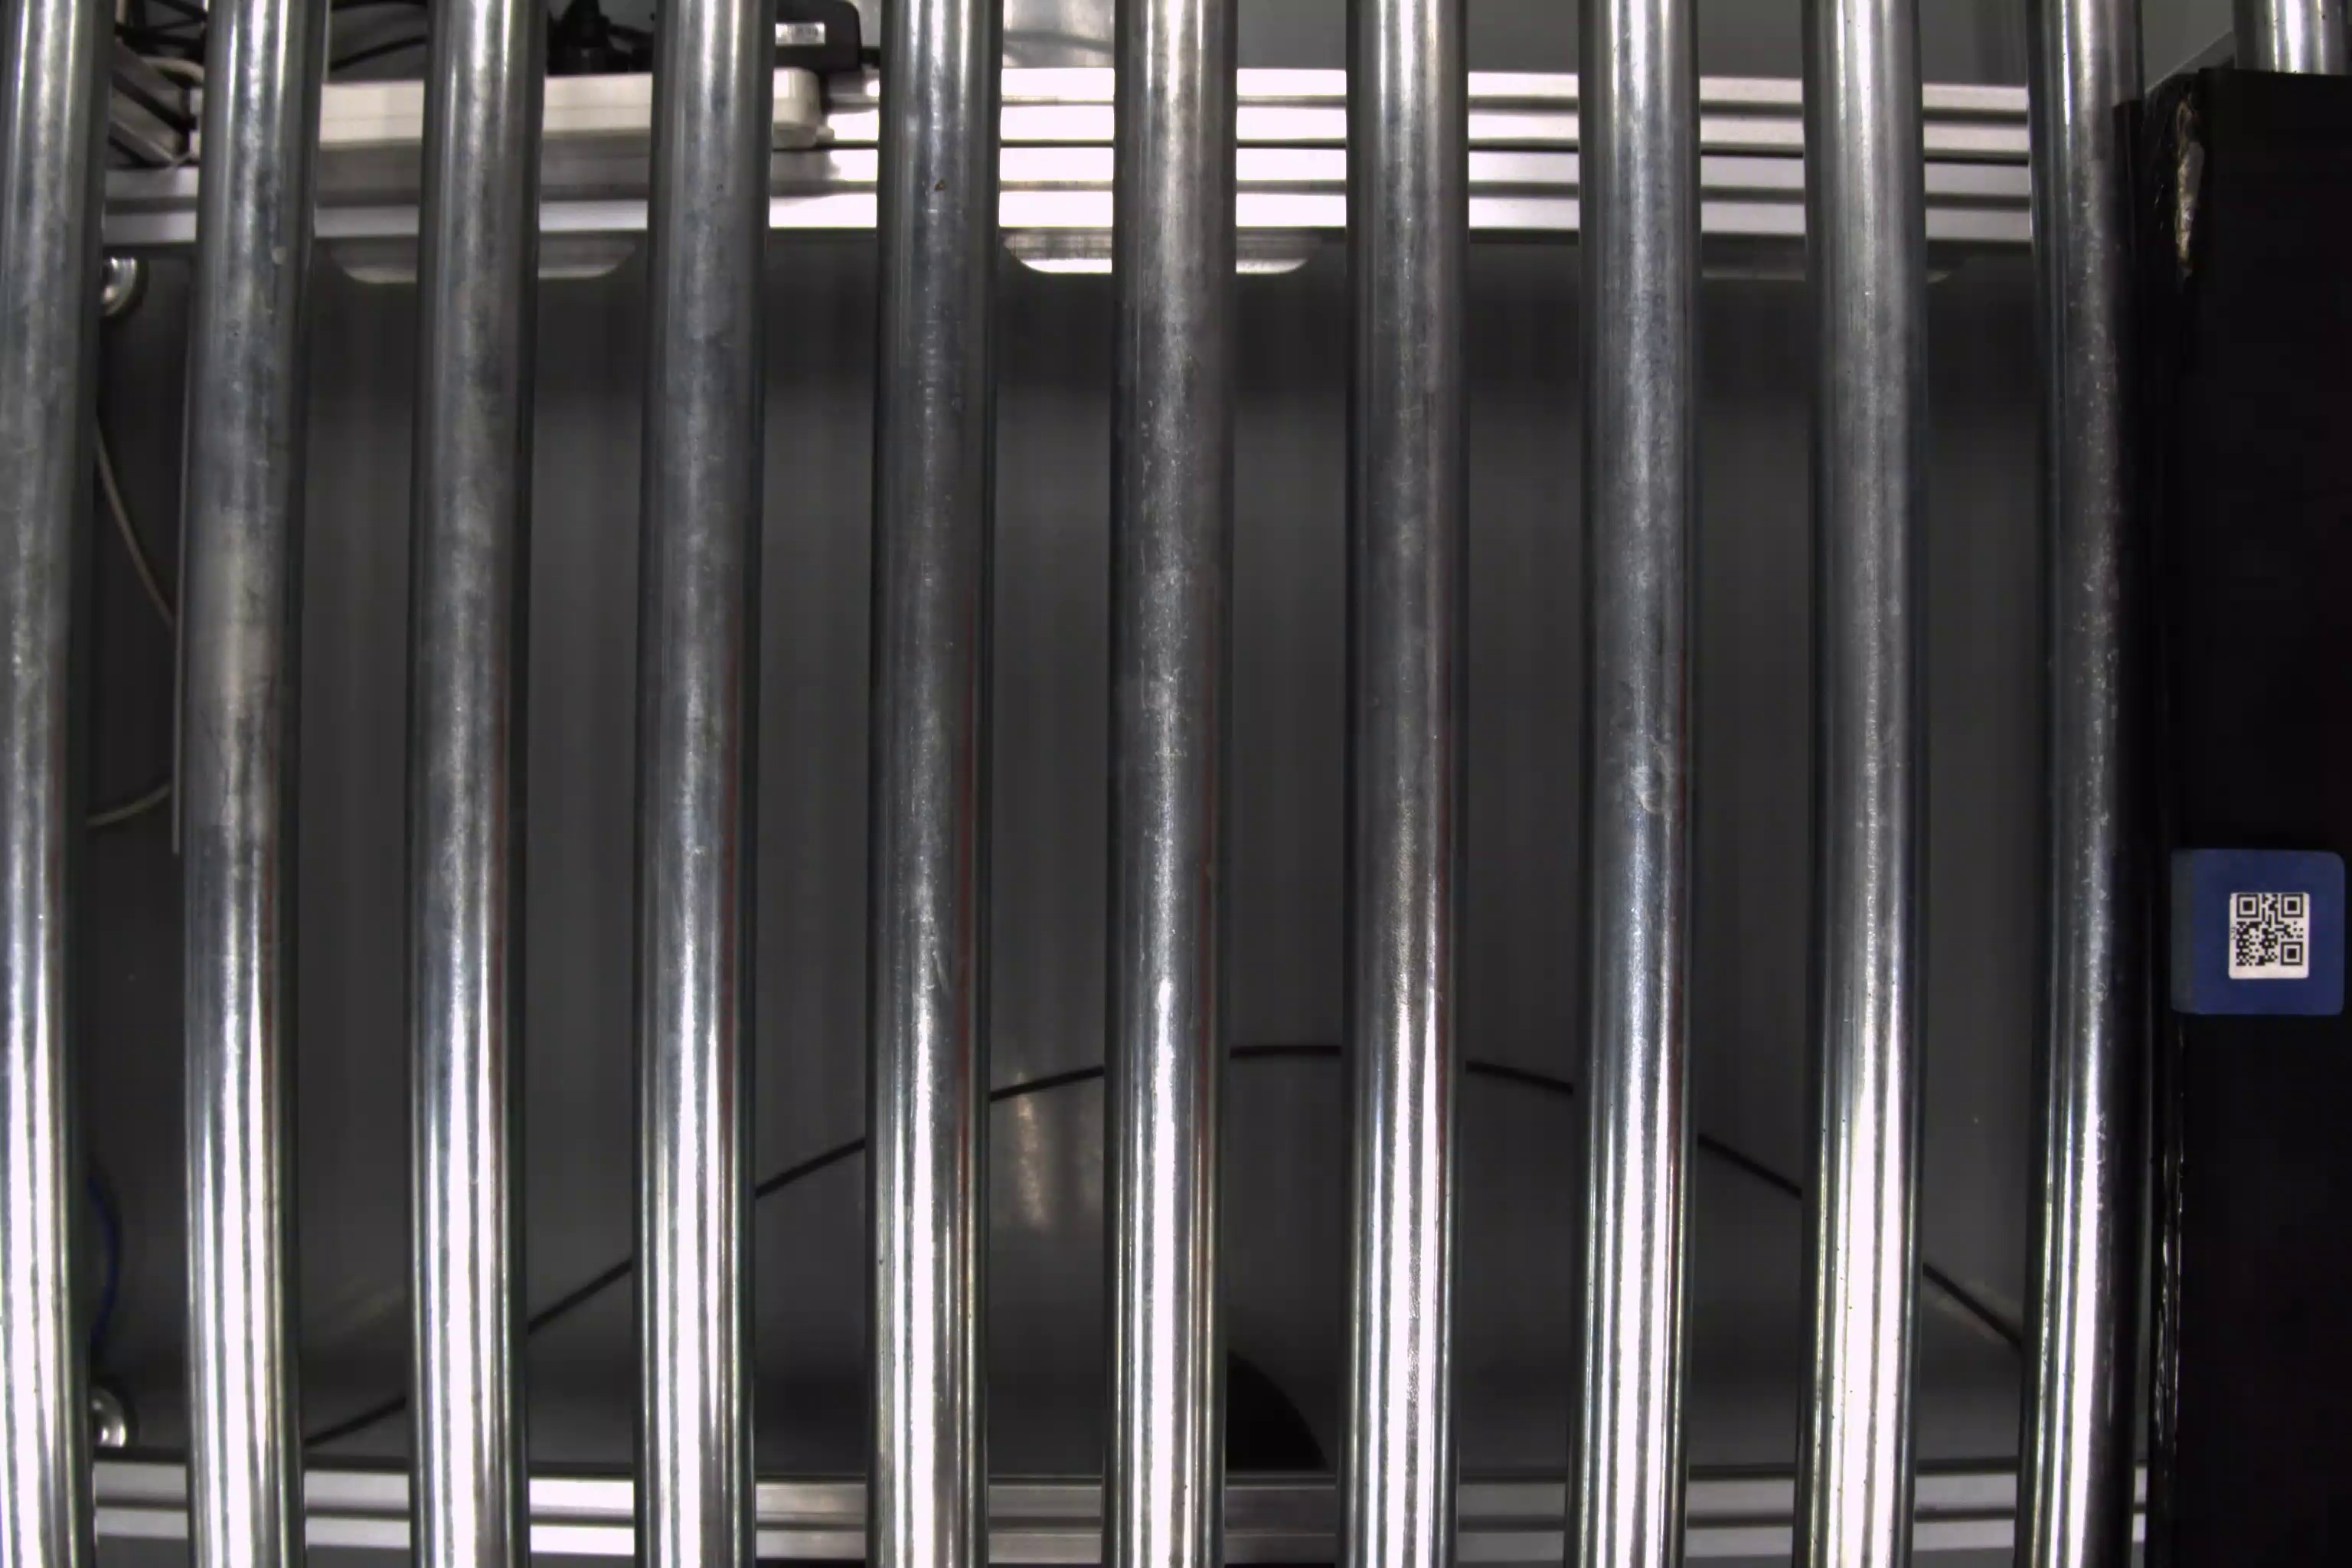wood: (2166, 845, 2345, 1022)
